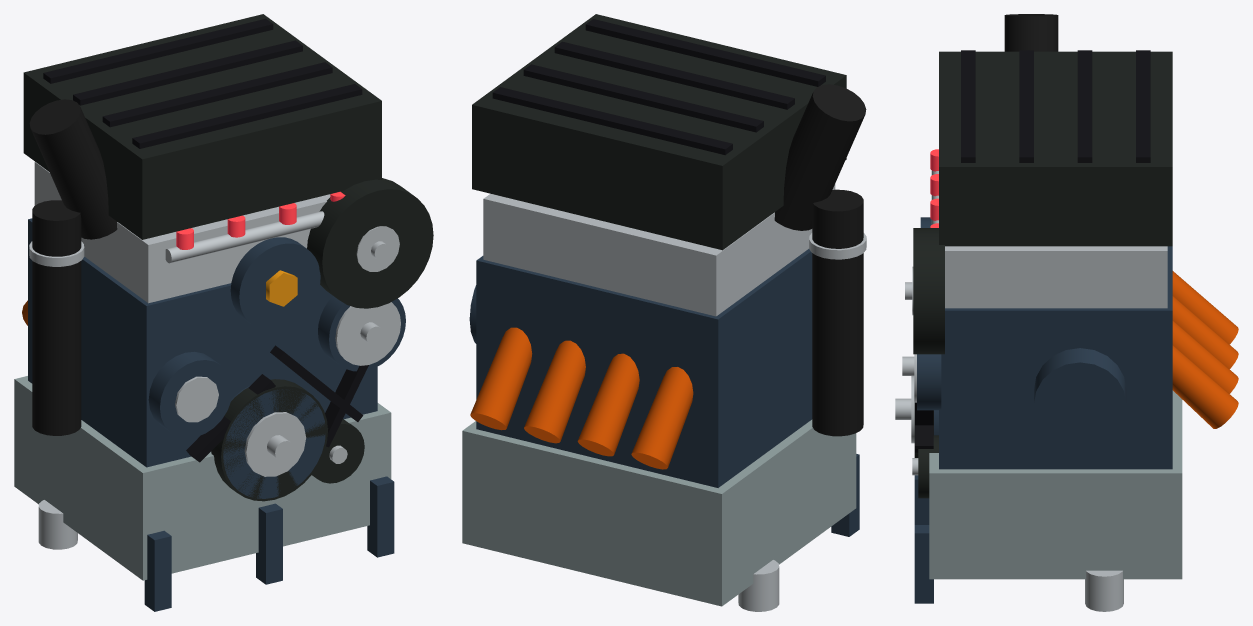
File: engine.glb
3 views of the same model, side by side, from view 1: azimuth 30°, elevation 25°; view 2: azimuth 150°, elevation 25°; view 3: azimuth 270°, elevation 25° (orthographic). The views are drawn at different scales.
Parts seen in each view (by area): view 1: Detailed_3D_Engine_Model, Air_Intake_Box, Oil_Pan_Sump_Base, Cylinder_Block, Cylinder_Head_Cover; view 2: Detailed_3D_Engine_Model, Oil_Pan_Sump_Base, Air_Intake_Box, Cylinder_Block, Cylinder_Head_Cover; view 3: Air_Intake_Box, Detailed_3D_Engine_Model, Cylinder_Block, Oil_Pan_Sump_Base, Cylinder_Head_Cover.
Part boxes in pixels (bbox=[...]): Detailed_3D_Engine_Model: bbox=[22, 18, 433, 611]; Air_Intake_Box: bbox=[23, 14, 381, 239]; Oil_Pan_Sump_Base: bbox=[14, 376, 391, 580]; Cylinder_Block: bbox=[28, 218, 377, 467]; Cylinder_Head_Cover: bbox=[34, 162, 330, 303]; Detailed_3D_Engine_Model: bbox=[469, 19, 866, 611]; Oil_Pan_Sump_Base: bbox=[462, 419, 856, 606]; Air_Intake_Box: bbox=[472, 14, 846, 250]; Cylinder_Block: bbox=[476, 249, 812, 487]; Cylinder_Head_Cover: bbox=[483, 184, 835, 316]; Air_Intake_Box: bbox=[939, 51, 1172, 246]; Detailed_3D_Engine_Model: bbox=[895, 14, 1238, 611]; Cylinder_Block: bbox=[939, 246, 1172, 469]; Oil_Pan_Sump_Base: bbox=[929, 390, 1182, 579]; Cylinder_Head_Cover: bbox=[945, 246, 1167, 308].
Bounding box in the file's own units: 0.796 × 1.05 × 0.7059.
